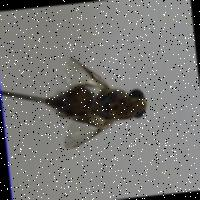Oriental-fruit-fly: (33, 42, 157, 155)
